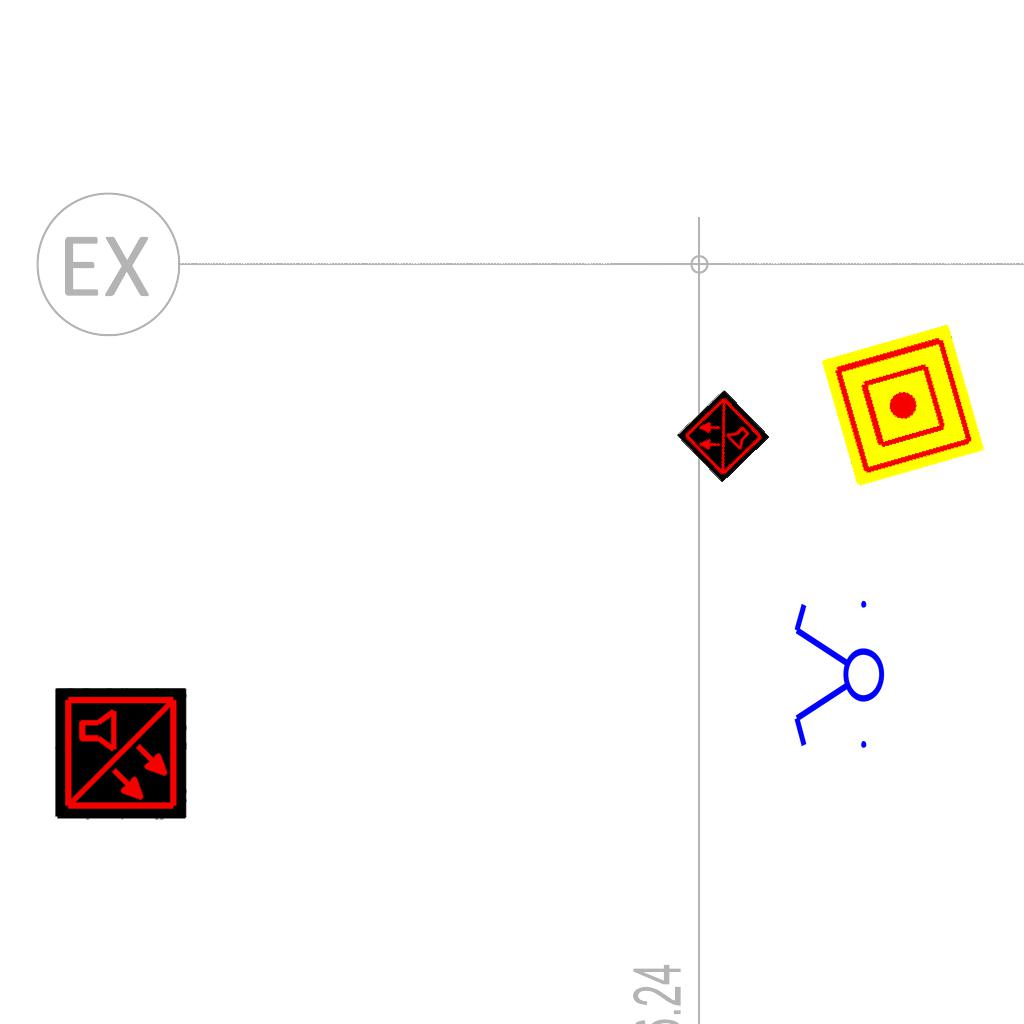NAM-Nichtautomatischer_Melder: (821, 323, 985, 487)
OKW_Multisensormelder_(Kombination_optischer_Rauch-Kahlenmonoxid_Waerme-Melder): (55, 688, 187, 820), (676, 389, 770, 483)
Serienschalter: (790, 592, 886, 760)
